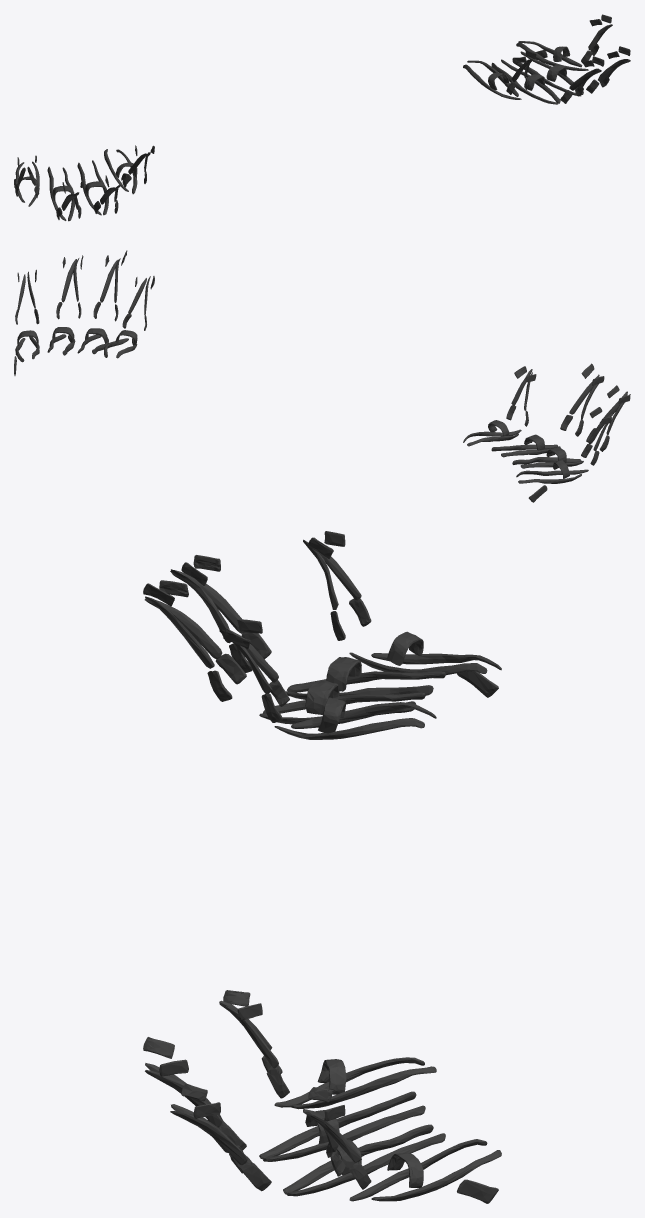
Rendered from HL_paw_ligaments.glb.
The picture shows the model from 3 angles, top to bottom: view 1: azimuth 30°, elevation 25°; view 2: azimuth 150°, elevation 25°; view 3: azimuth 270°, elevation 25°; orthographic projection. The views are drawn at different scales.
Parts seen in each view (by area): view 1: HL_paw_ligaments; view 2: HL_paw_ligaments; view 3: HL_paw_ligaments.
Part boxes in pixels (bbox=[...]): HL_paw_ligaments: bbox=[14, 14, 630, 221]; HL_paw_ligaments: bbox=[14, 250, 630, 502]; HL_paw_ligaments: bbox=[143, 531, 501, 1203].
Size of the model in its own units: 0.0708 by 0.00807 by 0.0185.
1 material, 1 textured.
